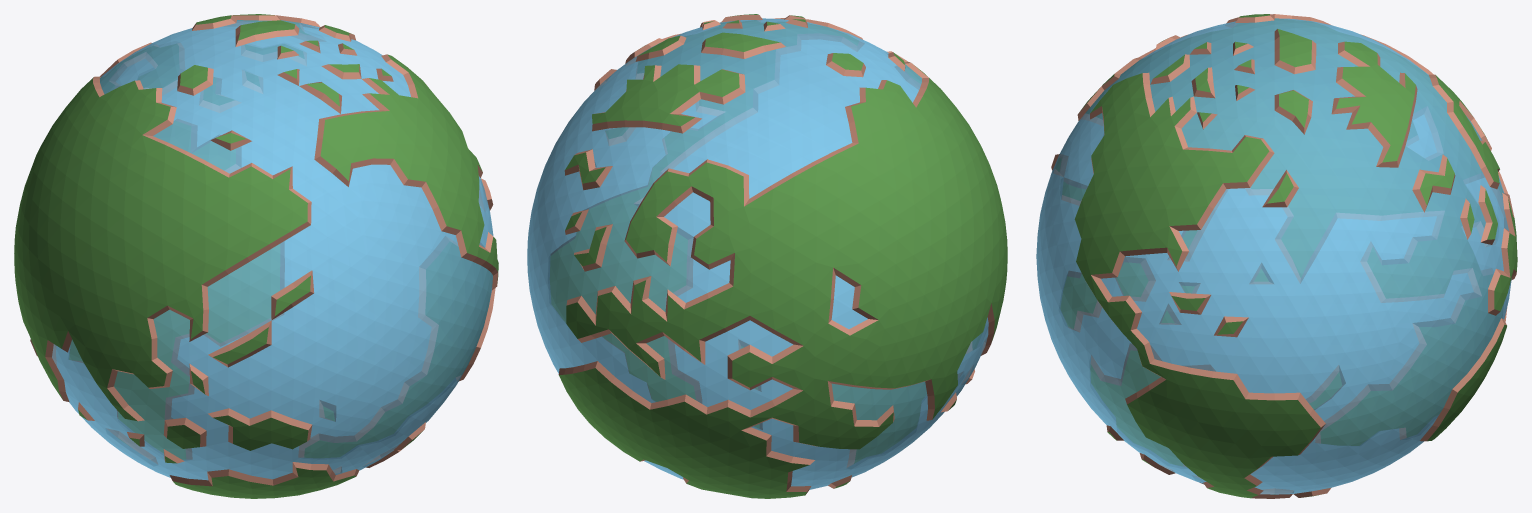
Rendered from globe_2.dae.
3 views of the same model, side by side, from view 1: azimuth 30°, elevation 25°; view 2: azimuth 150°, elevation 25°; view 3: azimuth 270°, elevation 25° (orthographic).
Visible parts, largest first — view 1: Sphere; view 2: Sphere; view 3: Sphere.
Boxes of the visible parts, bbox=[...] form: Sphere: bbox=[14, 14, 498, 498]; Sphere: bbox=[527, 14, 1007, 498]; Sphere: bbox=[1036, 14, 1517, 498].
Size of the model in its own units: 202 by 202 by 202.
